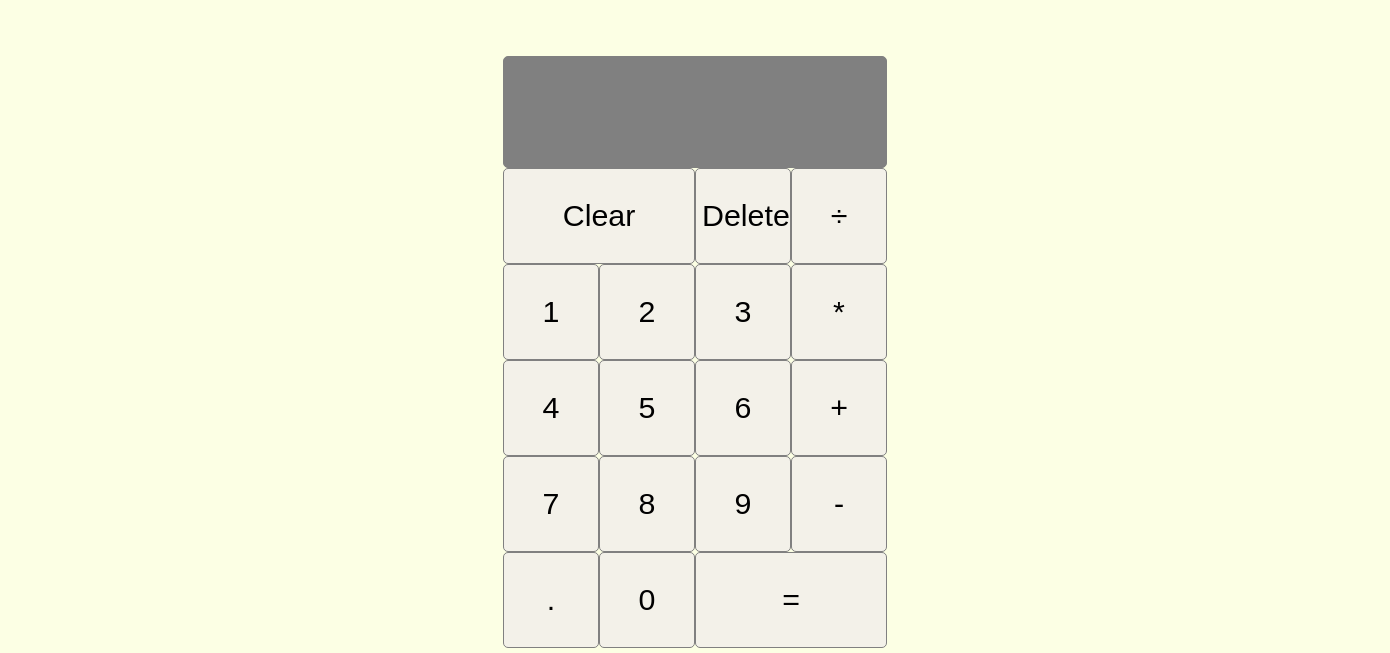
numbers can add together › can add two separate numbers together
The image size is (1390, 653).
Click the button "1" at coordinates (551, 312), box [503,264,599,360]
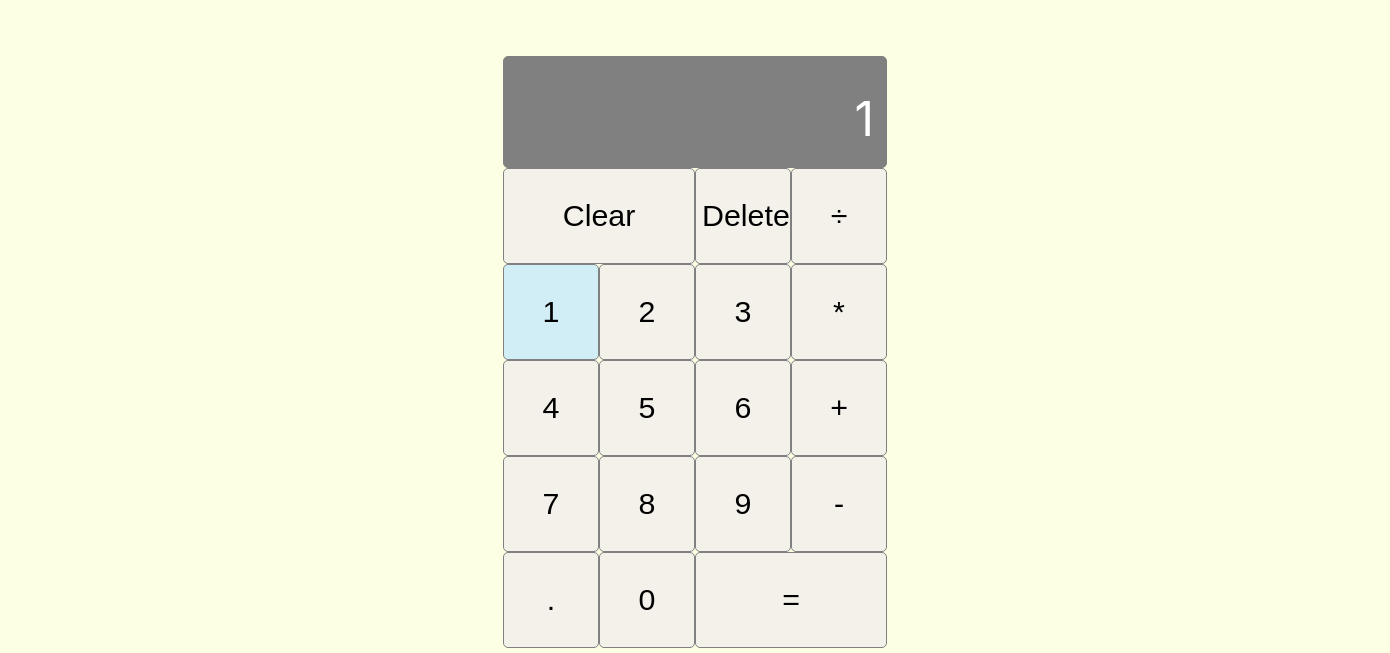
Click the button "+" at coordinates (839, 408), box [791,360,887,456]
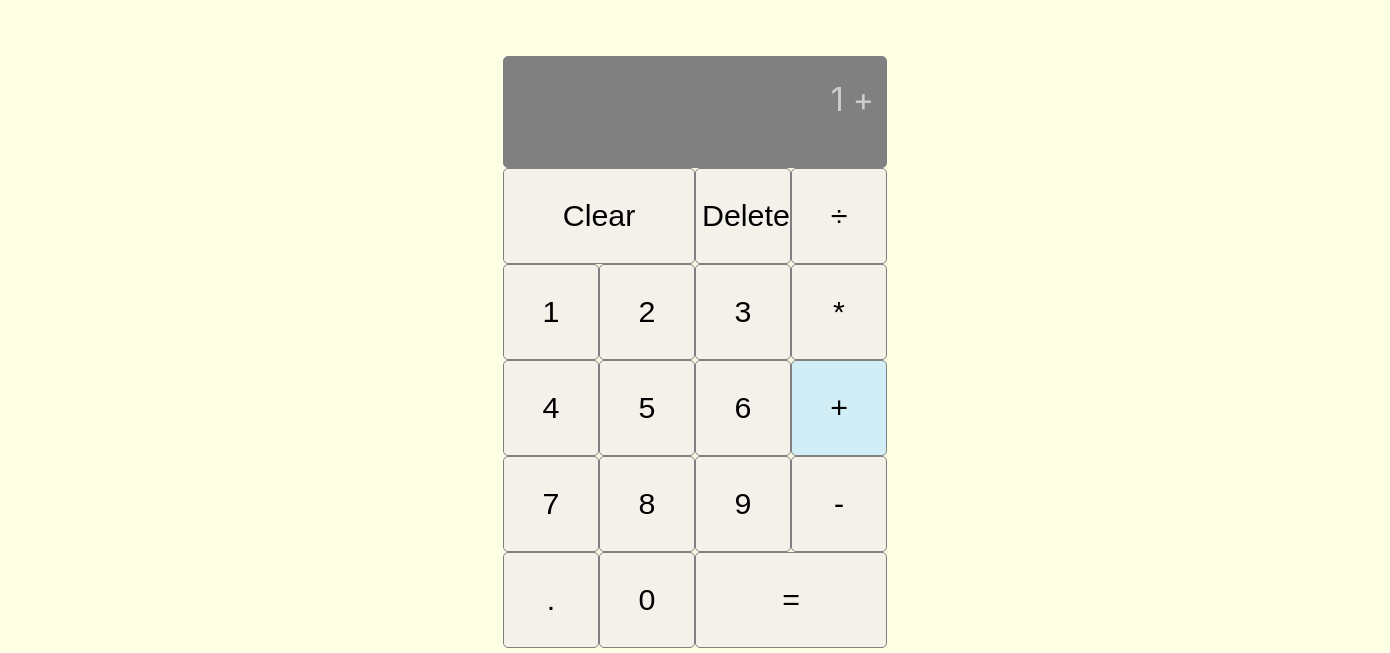
Click the button "2" at coordinates (647, 312), box [599,264,695,360]
(page scrolled)
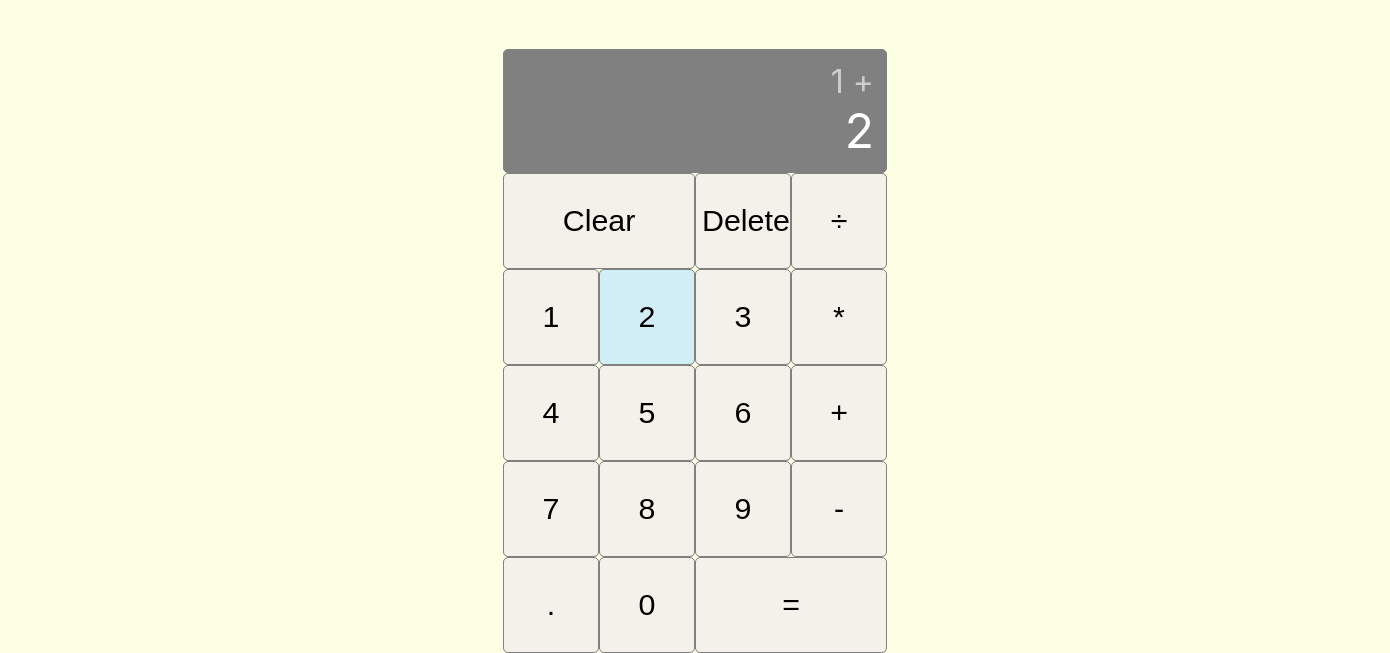
Click the button "=" at coordinates (791, 605), box [695,557,887,652]
(page scrolled)
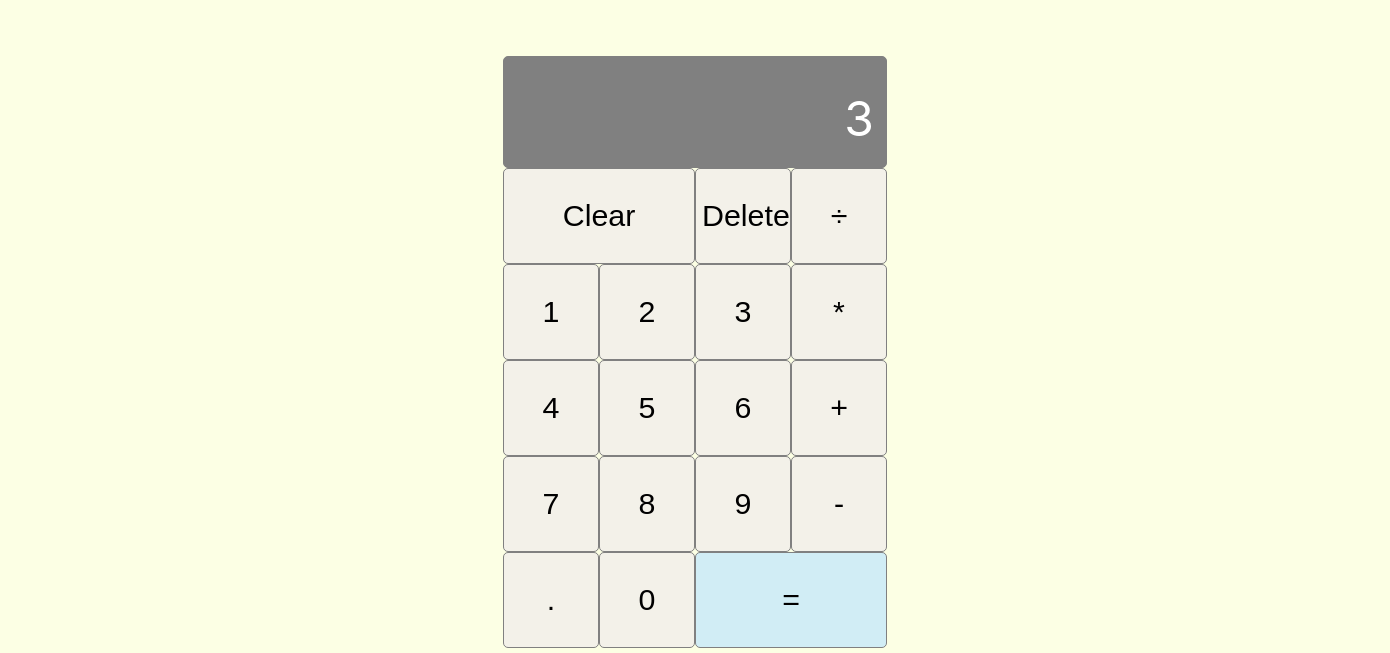
Expected: the text with class "current-sum" reads "3", [844,89,874,148]
